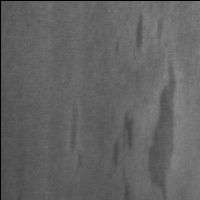inclusion: (145, 57, 180, 200), (109, 110, 139, 200), (114, 11, 167, 55), (67, 99, 85, 175)
